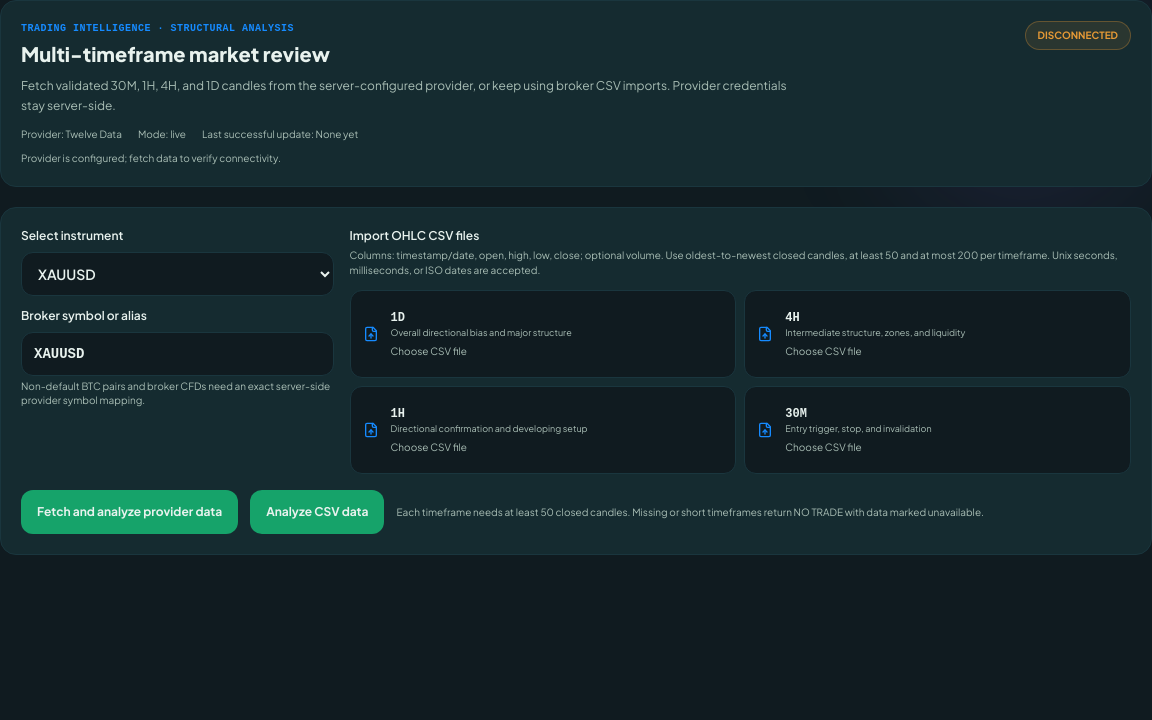
TradingPage › does not let a provider response replace a newer CSV analysis
Click the button with test id "button-analyze-provider": (130, 512) top-left (21, 490), bottom-right (238, 534)
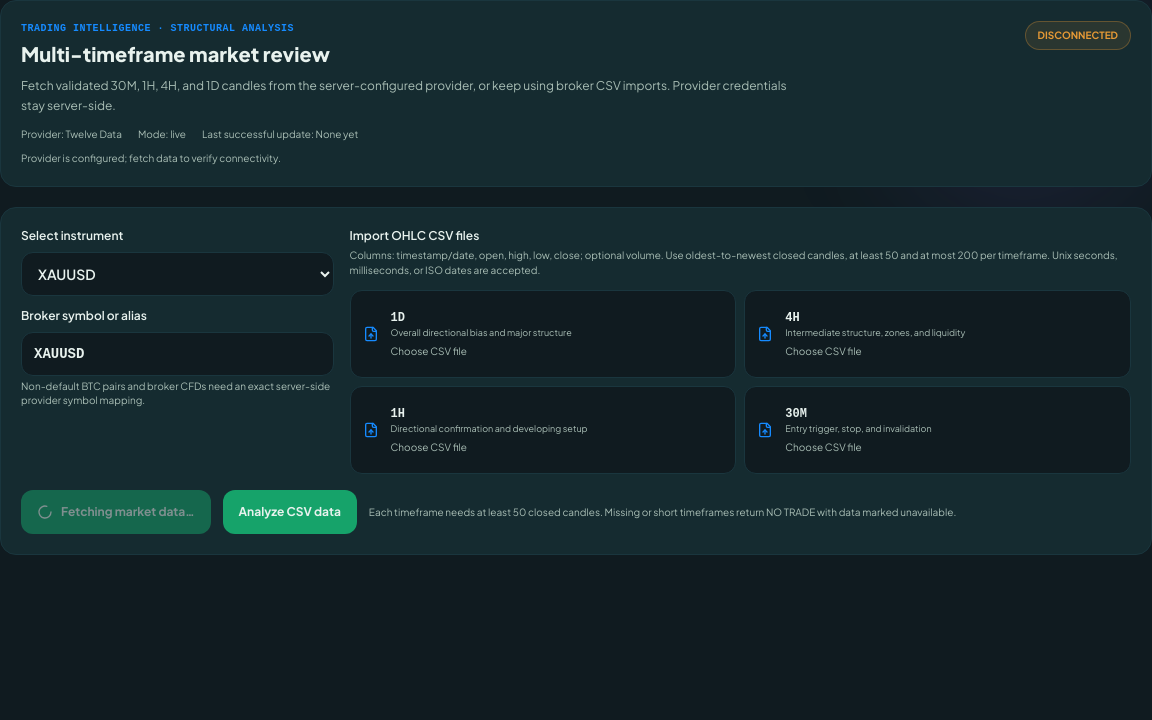
Click the button with test id "button-analyze-market": (290, 512) top-left (223, 490), bottom-right (357, 534)
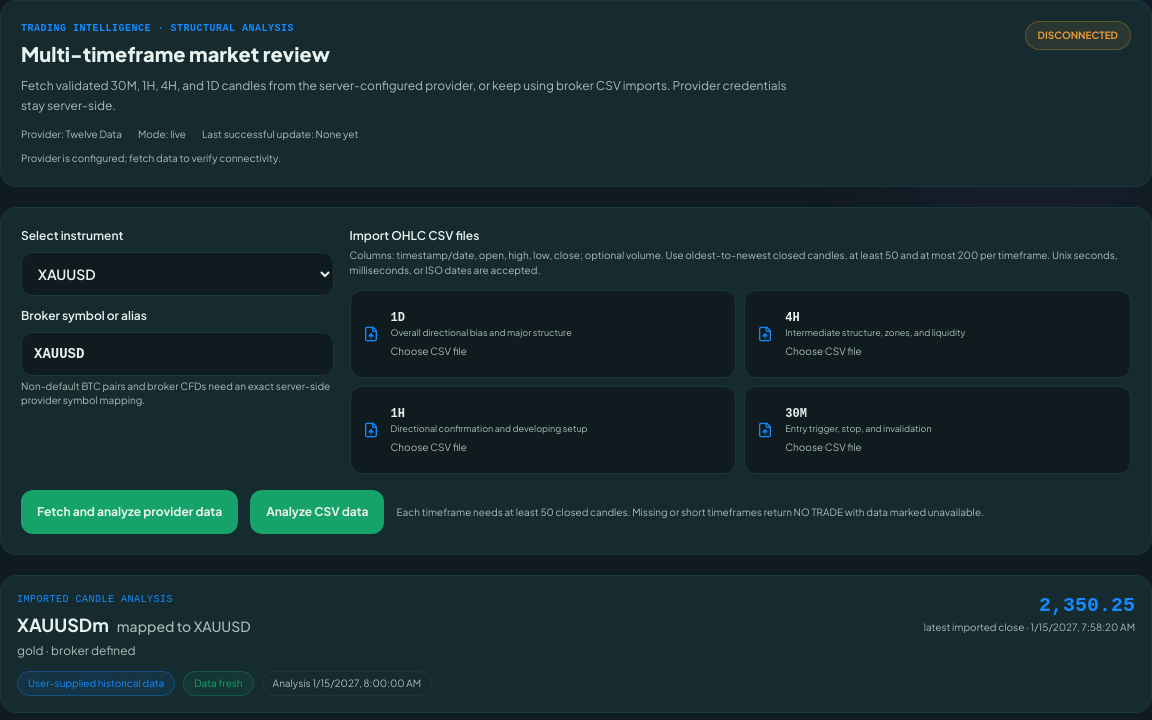
Now the text "Imported candle analysis" is shown, box top-left (17, 594), bottom-right (173, 605)
